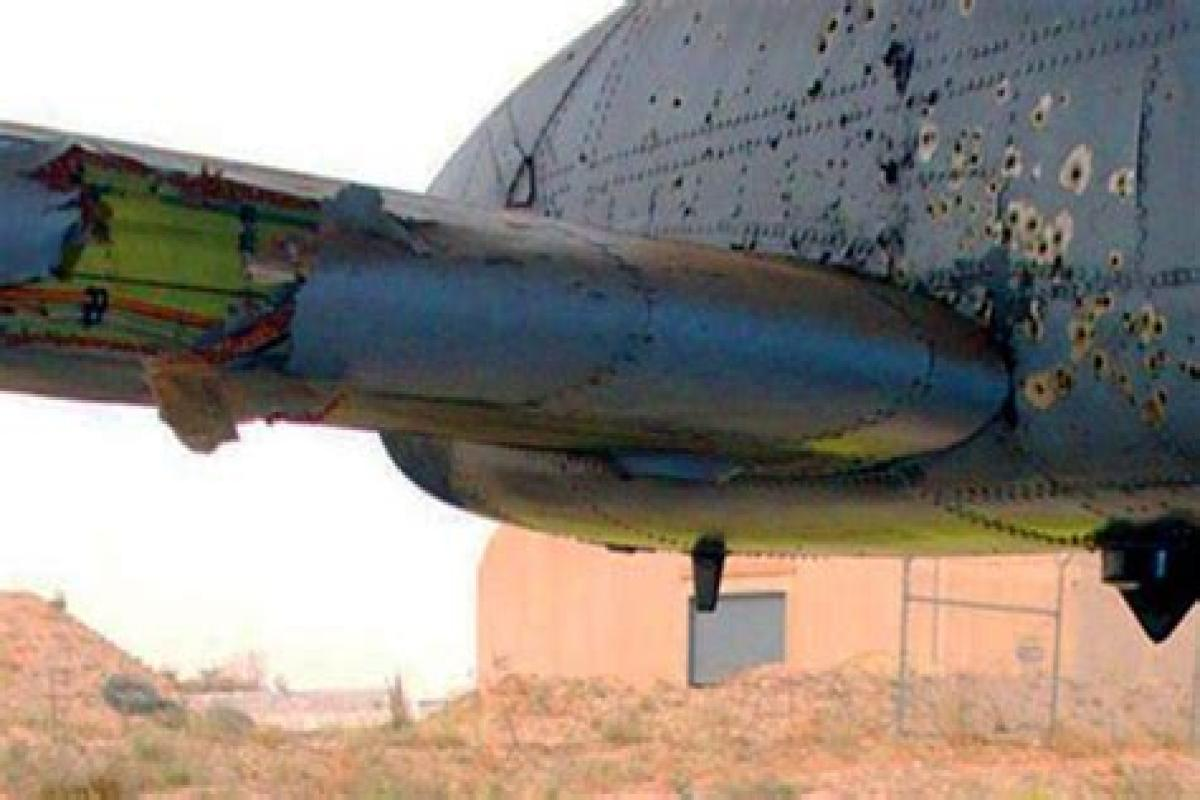Fuselage_damage: (802, 5, 1200, 487), (8, 126, 464, 459)
